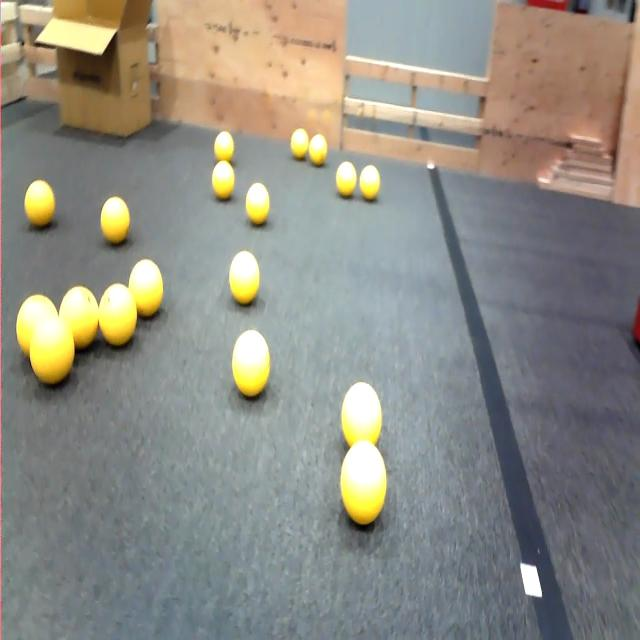fuel: (333, 430, 392, 540), (226, 324, 279, 402), (14, 166, 68, 238), (29, 313, 76, 390), (90, 182, 140, 253), (335, 377, 383, 450), (95, 271, 140, 346), (224, 240, 267, 316), (14, 288, 57, 361), (60, 286, 101, 345), (126, 259, 167, 312), (241, 180, 274, 232), (355, 158, 382, 214), (306, 126, 333, 175), (210, 120, 238, 164), (211, 158, 238, 203), (334, 159, 358, 203), (288, 124, 308, 162)
